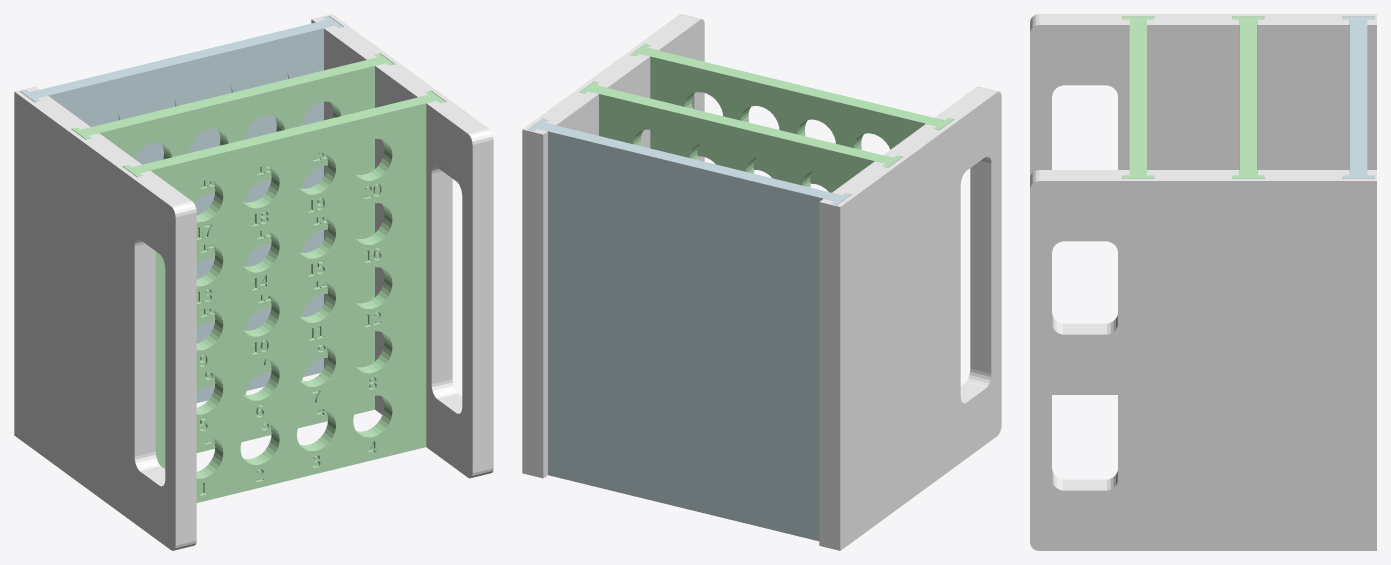
File: playground.glb
3 views of the same model, side by side, from view 1: azimuth 30°, elevation 25°; view 2: azimuth 150°, elevation 25°; view 3: azimuth 270°, elevation 25° (orthographic). The views are drawn at different scales.
Bounding box in the file's own units: 215 × 222 × 189.
